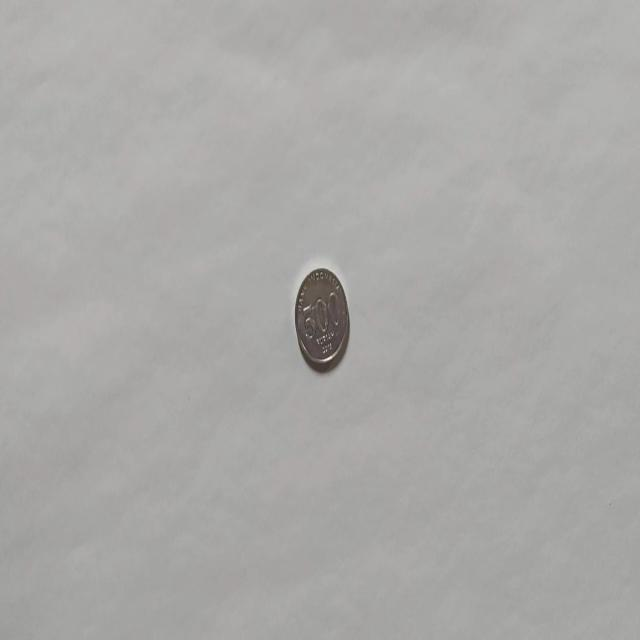lima ratus rupiah: (294, 264, 351, 372)
